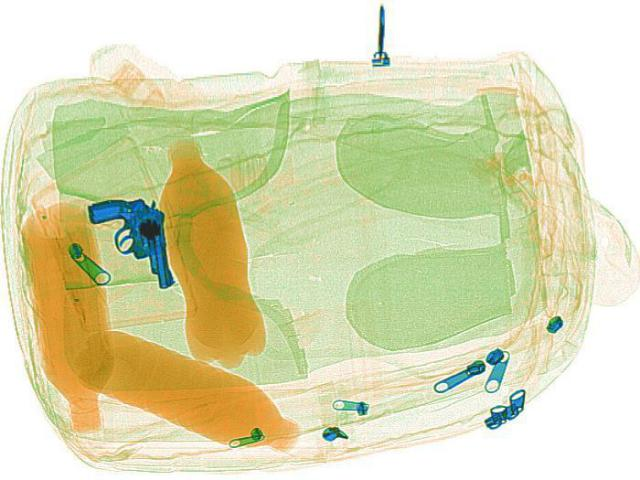Gun: (80, 184, 206, 290)
